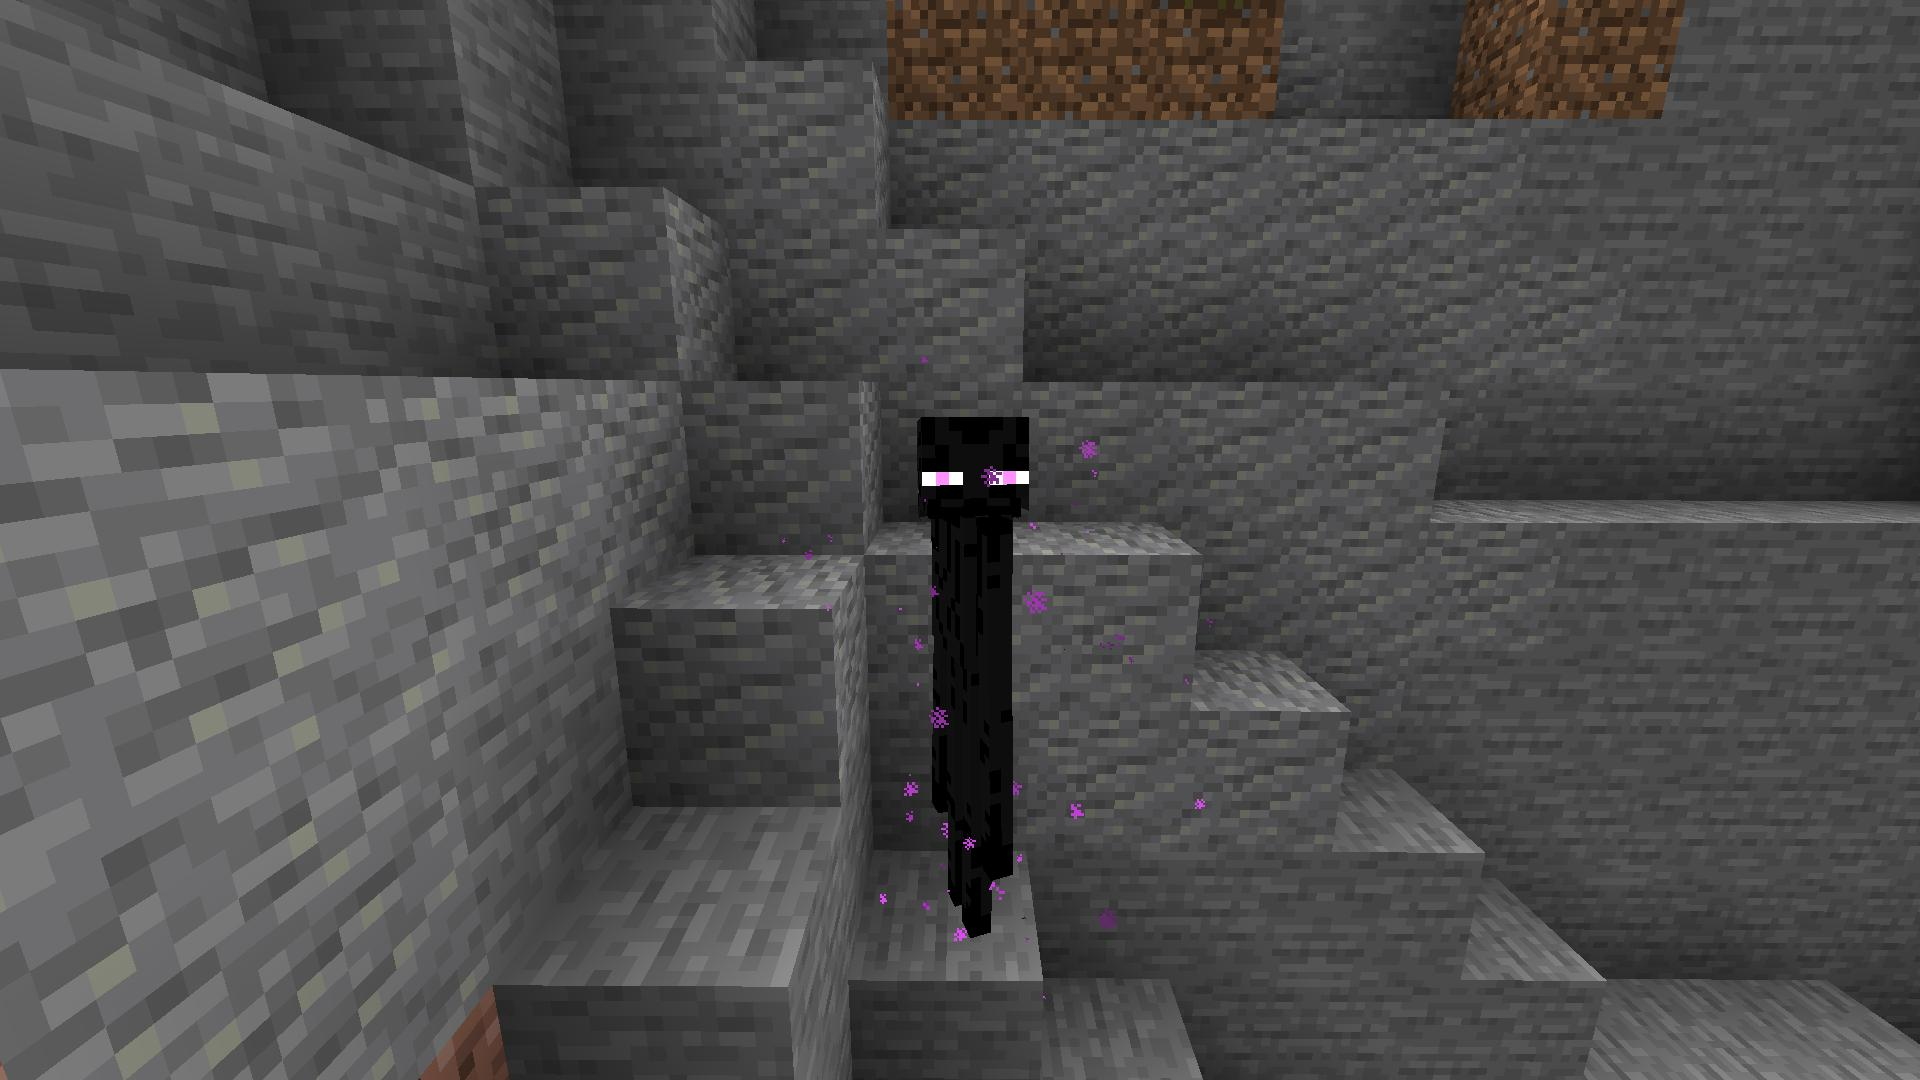enderman: (906, 402, 1063, 955)
